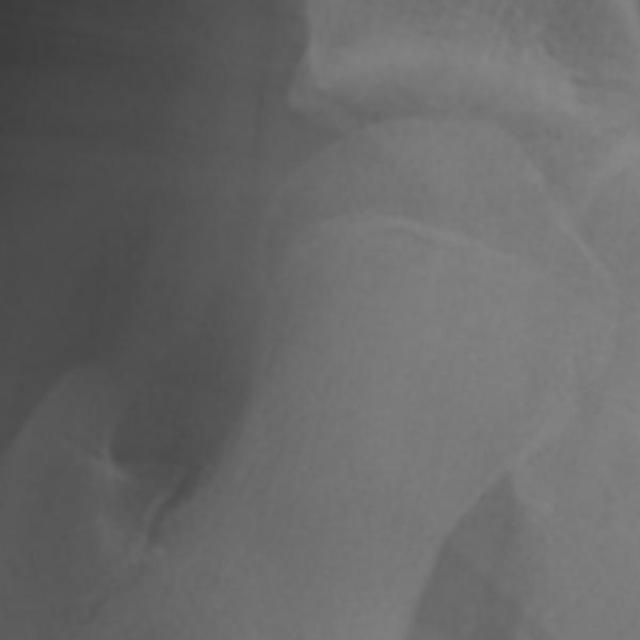Fitted_femural_head: (369, 115, 432, 369)
